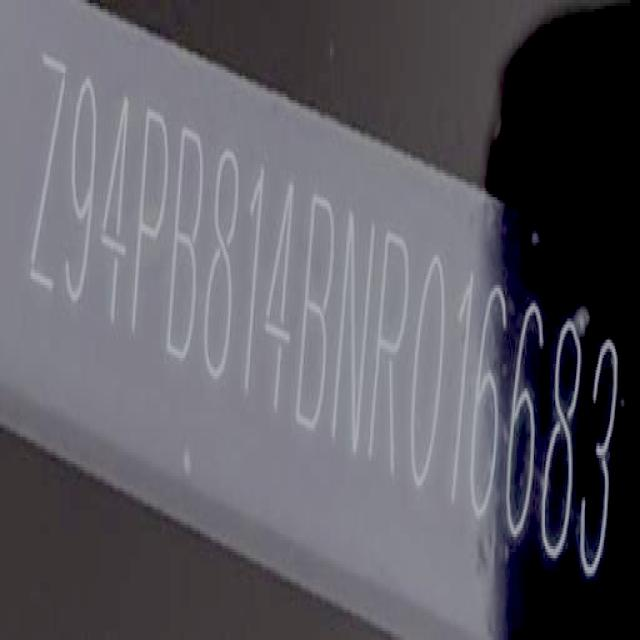0: (412, 252, 448, 491)
1: (448, 267, 474, 508), (244, 163, 262, 397)
3: (582, 329, 620, 582)
4: (102, 90, 136, 326), (263, 178, 296, 418)
6: (468, 284, 504, 530), (507, 300, 541, 550)
8: (546, 312, 583, 569), (207, 141, 238, 383)
9: (66, 67, 98, 309)
B: (170, 121, 204, 372), (298, 188, 332, 439)
N: (338, 211, 376, 457)
P: (135, 106, 167, 344)
R: (374, 226, 411, 481)
Z: (28, 48, 68, 300)
